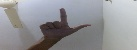hand: (38, 7, 92, 41)
